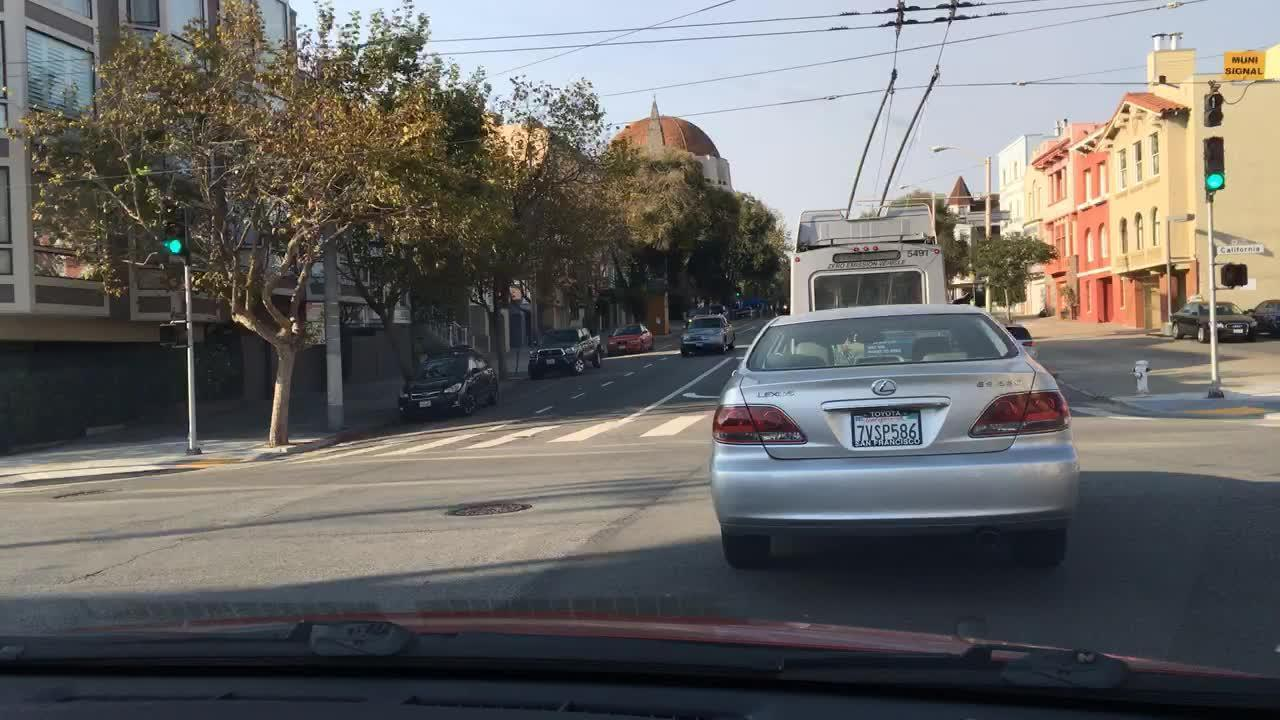lexus: (864, 377, 904, 406)
